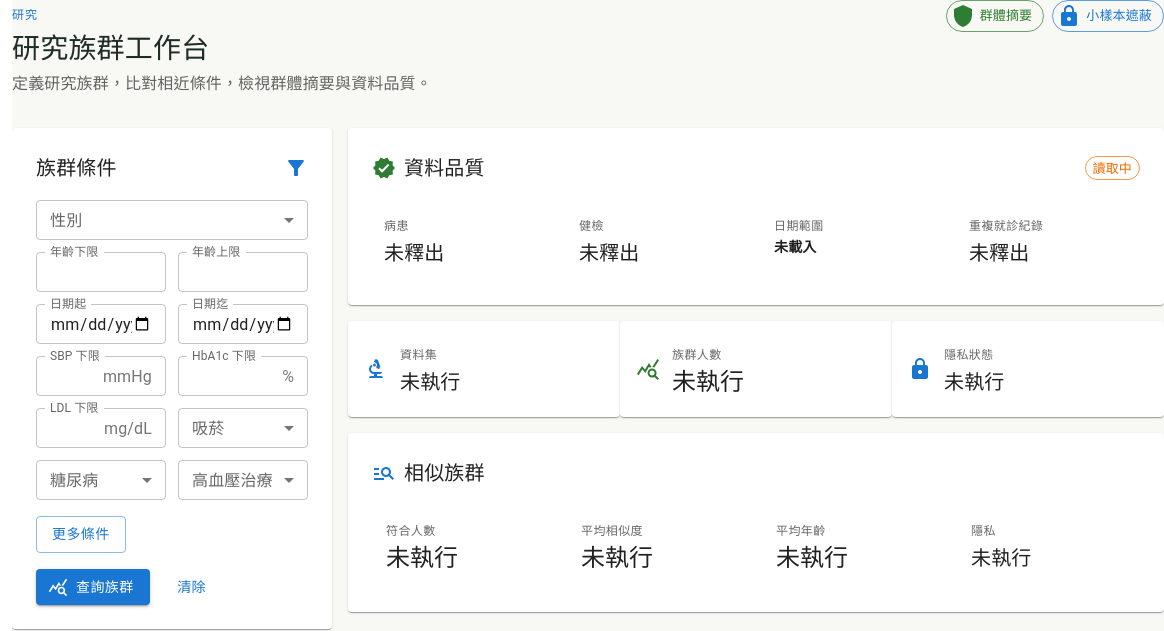
Test case: cohort demographics preserve zero and reject invalid numeric representations
Click the button "查詢族群" at (93, 587), box [36, 569, 150, 606]
(page scrolled)
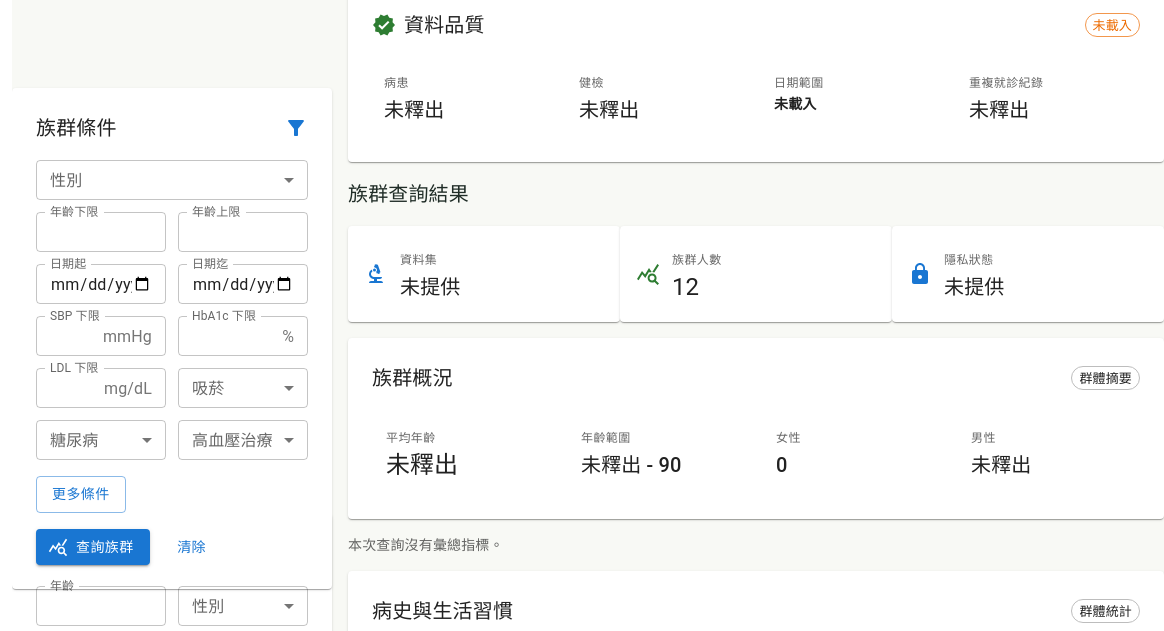
Check: the 4th text "未釋出" is shown, box [386, 451, 458, 479]
Check: the text "0" is shown, box [776, 453, 788, 477]
Check: the text "未釋出" below "男性" is shown, box [971, 453, 1032, 477]
